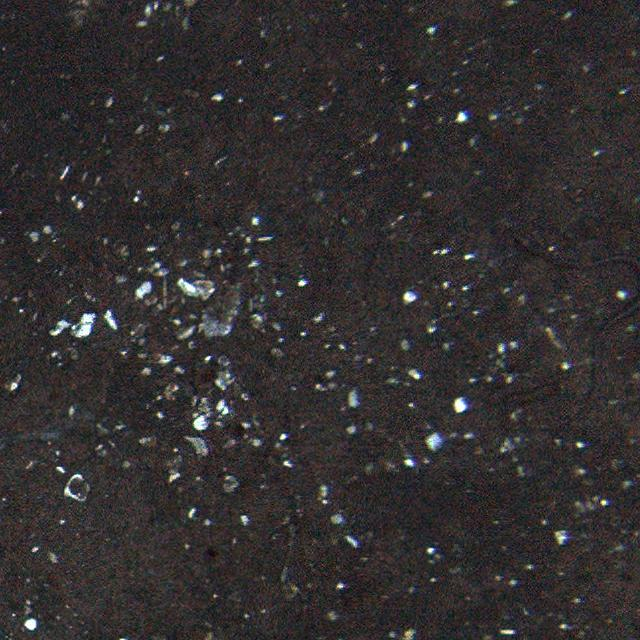eel: (514, 232, 640, 412)
